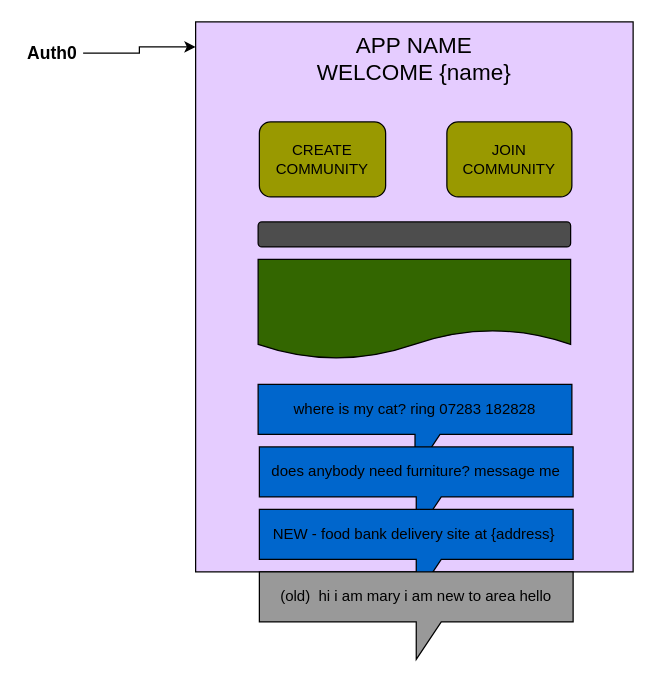
The diagram is 655 pixels wide and 681 high, and some of its shapes have lost their labels. The box of each missing label's shape, as (x1, y1, x2, y2) in pixels:
my area of the map? idk whatever: (257, 258, 571, 359)
Search ...: (257, 221, 571, 247)
